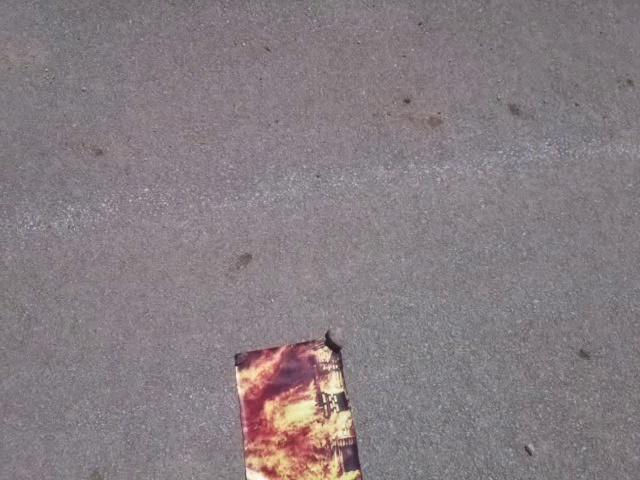fire-poster: (231, 330, 366, 479)
